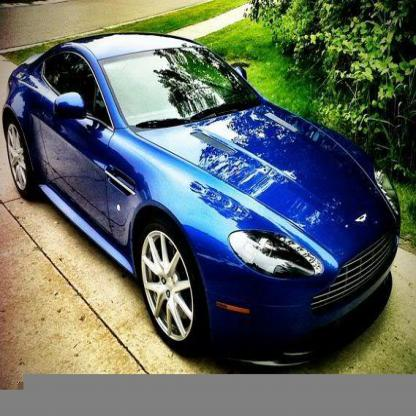Vehicle: (2, 20, 408, 368)
